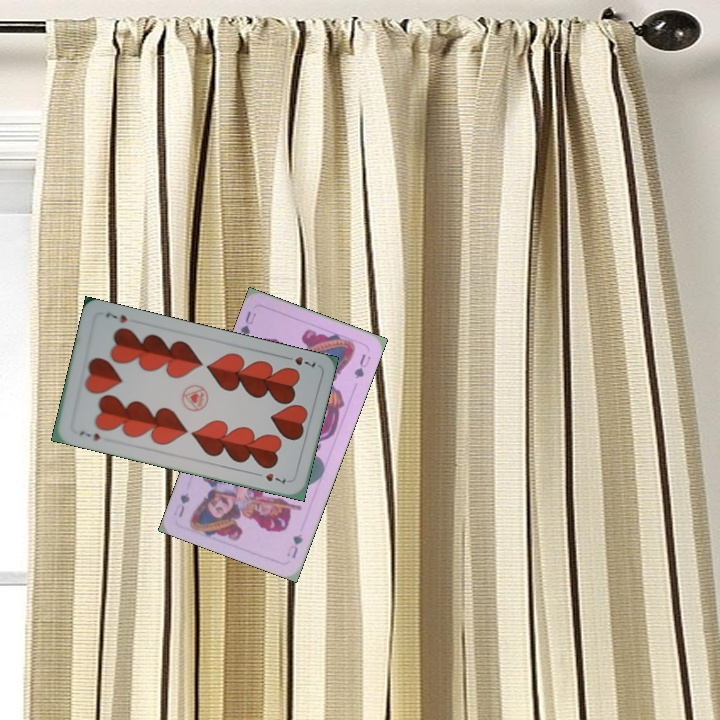GU: (236, 307, 259, 339), (283, 530, 306, 561)
H7: (280, 352, 318, 370), (76, 426, 103, 443)
